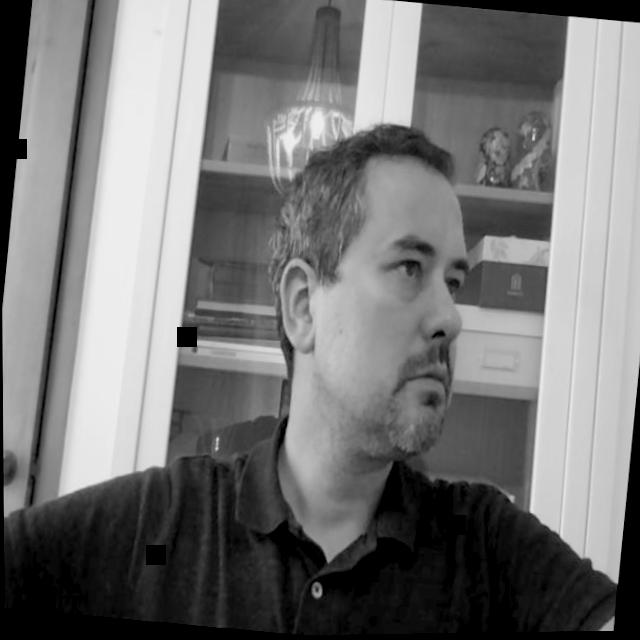NO-Mask: (255, 110, 485, 473)
